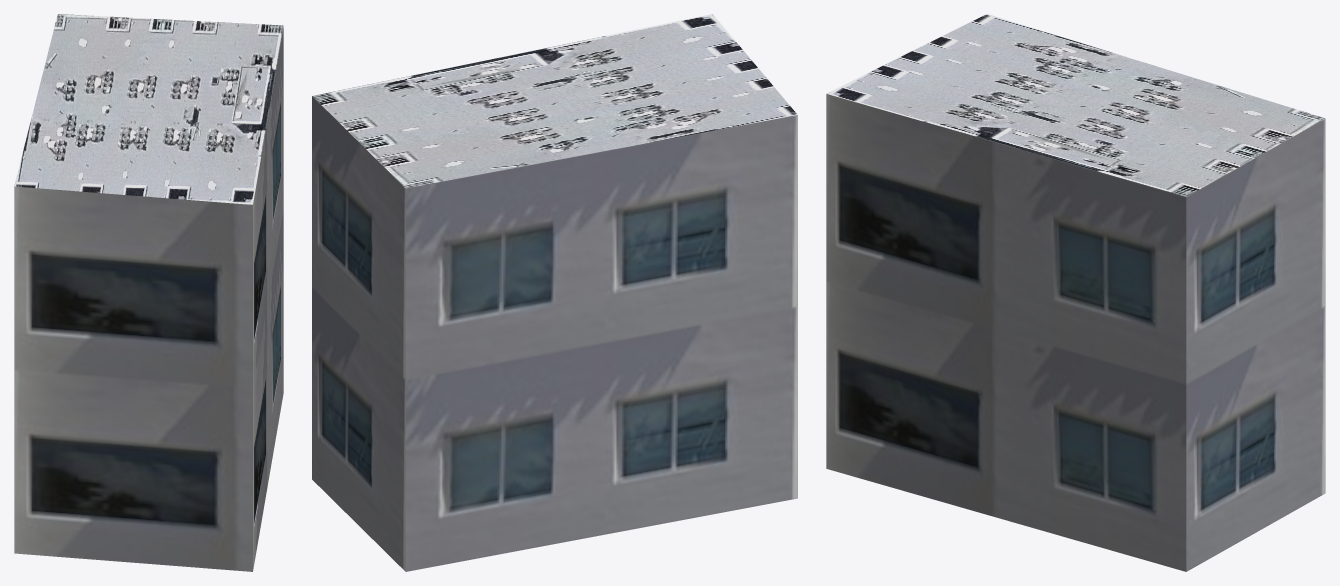
Rendered from ResTex__2260.fbx.
3 renders of one model, left to right at view 1: azimuth 30°, elevation 25°; view 2: azimuth 150°, elevation 25°; view 3: azimuth 270°, elevation 25°, orthographic. The views are drawn at different scales.
Parts seen in each view (by area): view 1: CityEngineMaterial_10_m, CityEngineMaterial_8_m; view 2: CityEngineMaterial_10_m, CityEngineMaterial_8_m; view 3: CityEngineMaterial_10_m, CityEngineMaterial_8_m.
Boxes of the visible parts, <box> form: CityEngineMaterial_10_m: <box>14,27,283,571</box>; CityEngineMaterial_8_m: <box>14,14,283,204</box>; CityEngineMaterial_10_m: <box>312,96,797,571</box>; CityEngineMaterial_8_m: <box>312,14,797,188</box>; CityEngineMaterial_10_m: <box>826,94,1325,571</box>; CityEngineMaterial_8_m: <box>826,14,1325,196</box>.
Bounding box in the file's own units: 6.28 × 6 × 7.24.
2 materials, 2 textured.
